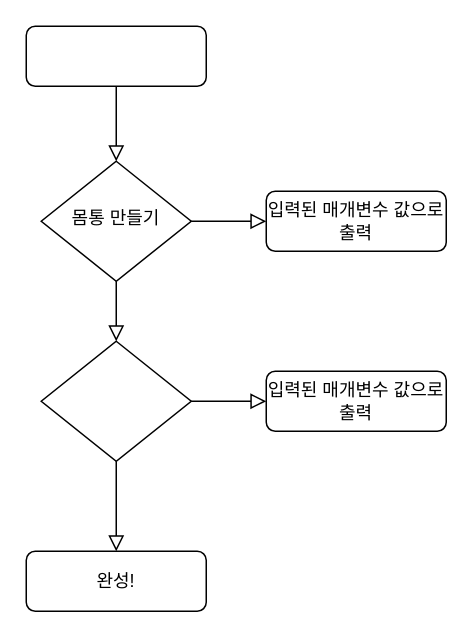
Image size: 473x638. Some labels were removed from this diagram. The centre of each missing label's shape, as x and y in pixels:
막대 만들기: (115,400)
시작: (115,55)
